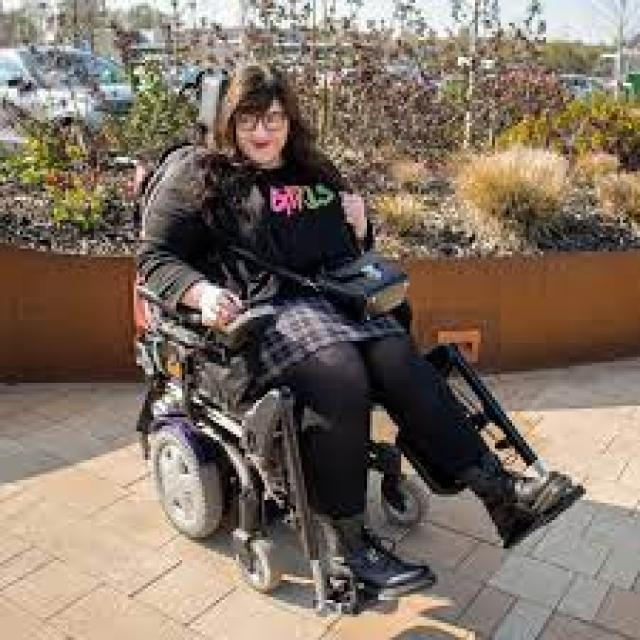wheelchairs: (88, 120, 578, 640)
